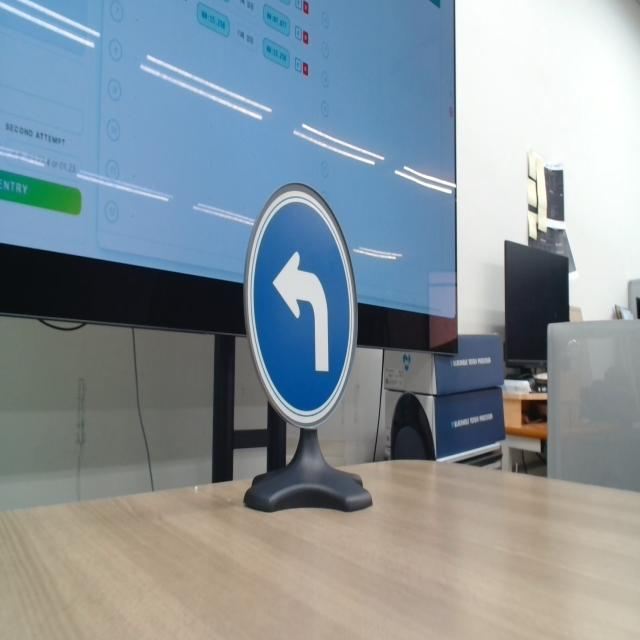left_direction: (238, 172, 371, 436)
